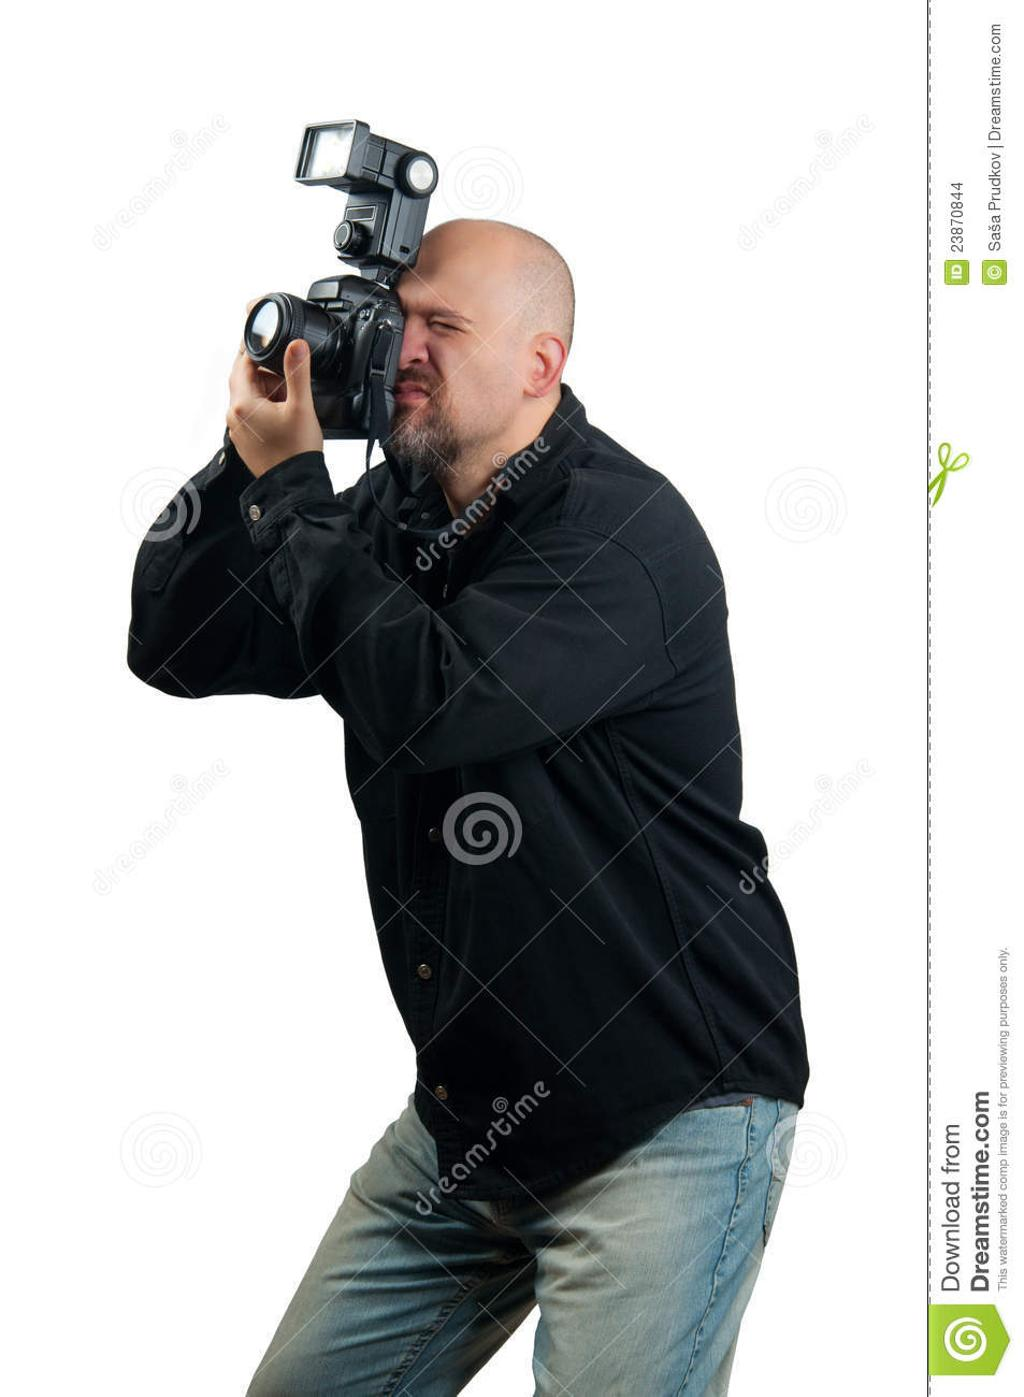face: (369, 254, 525, 445)
